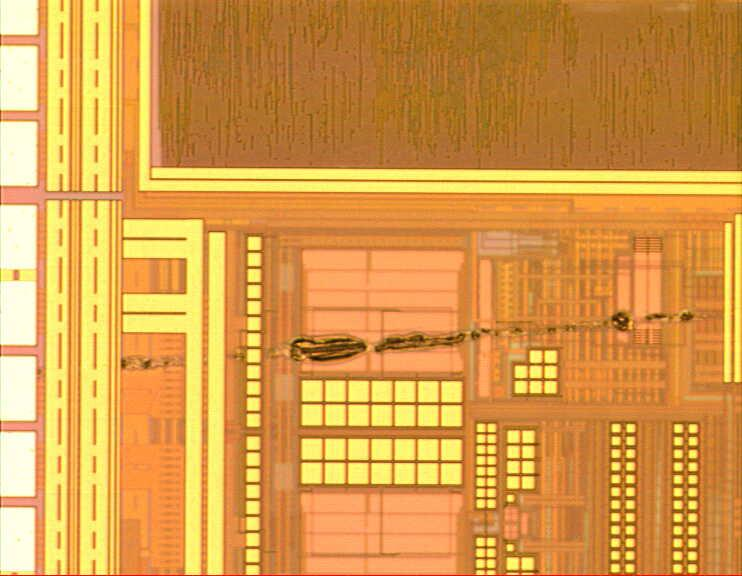SCRATCH: (26, 297, 742, 387)
